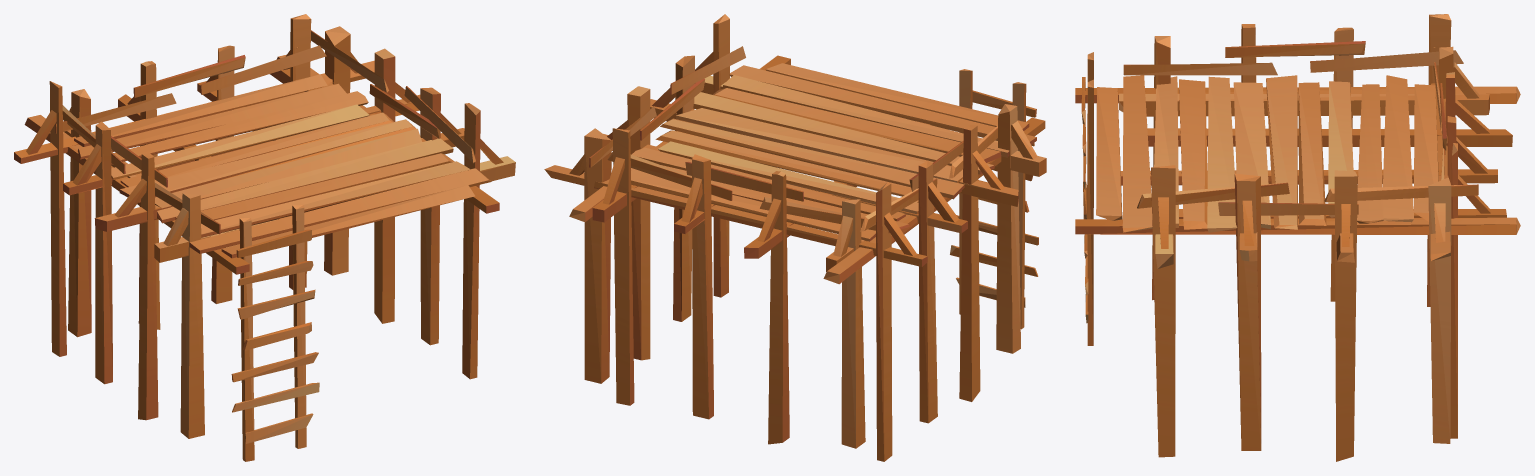
Rendered from GL-Manmade-03-LOD2.fbx.
3 views of the same model, side by side, from view 1: azimuth 30°, elevation 25°; view 2: azimuth 150°, elevation 25°; view 3: azimuth 270°, elevation 25° (orthographic). The views are drawn at different scales.
Parts seen in each view (by area): view 1: GL_Manmade_03; view 2: GL_Manmade_03; view 3: GL_Manmade_03.
Part boxes in pixels (x1,y1,x2,y2): GL_Manmade_03: (14, 14, 515, 461); GL_Manmade_03: (544, 14, 1046, 461); GL_Manmade_03: (1075, 14, 1520, 461).
Bounding box in the file's own units: 4.43 × 3.06 × 4.2.
